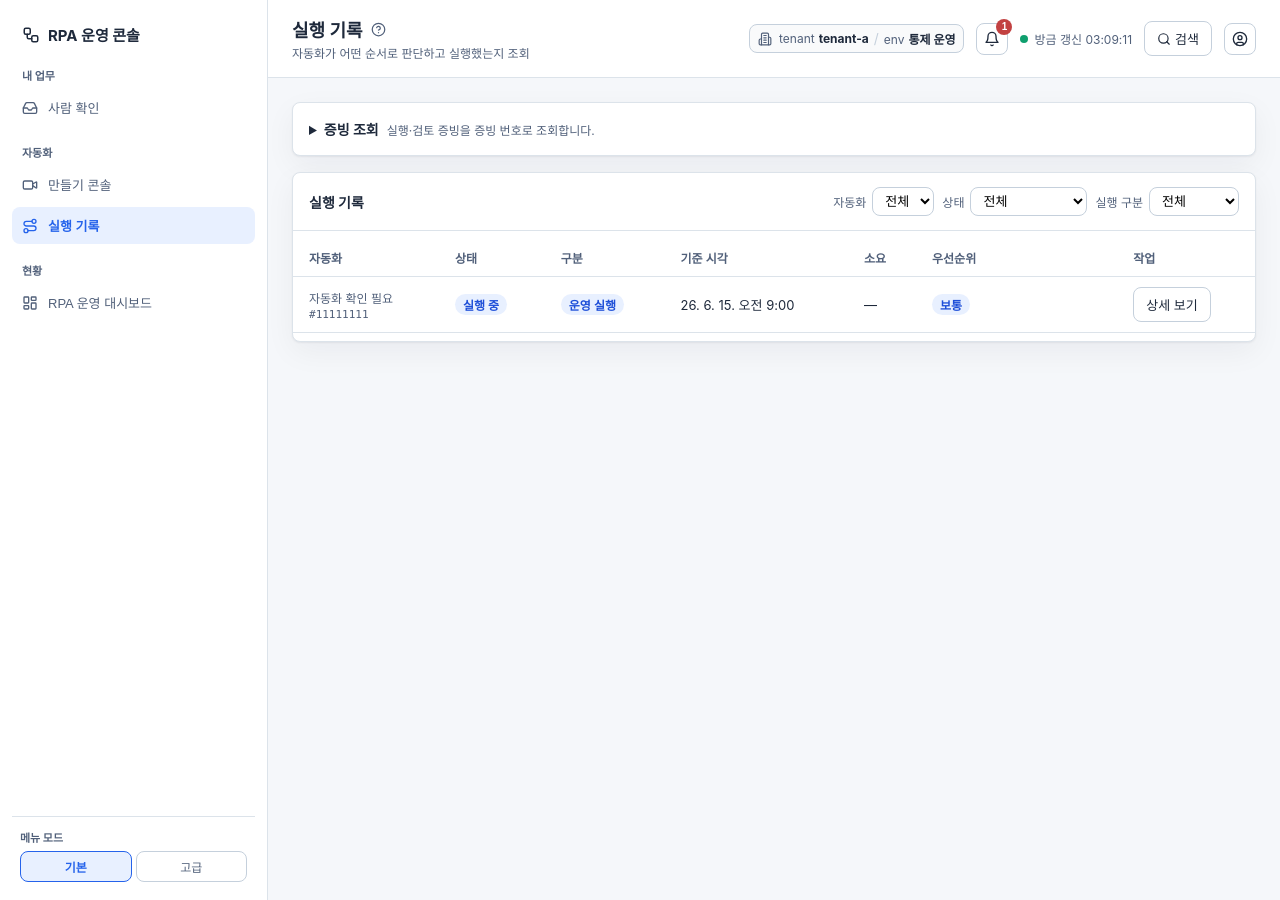
Test case: 실행 상세 상태 패널 — 터미널 상태(F3) › completed → 단일 상태 패널 green + '완료' 라벨
Click the button with aria-label "실행 추적 상세 보기" at (1172, 304), box x1=1133 y1=287 x2=1211 y2=322
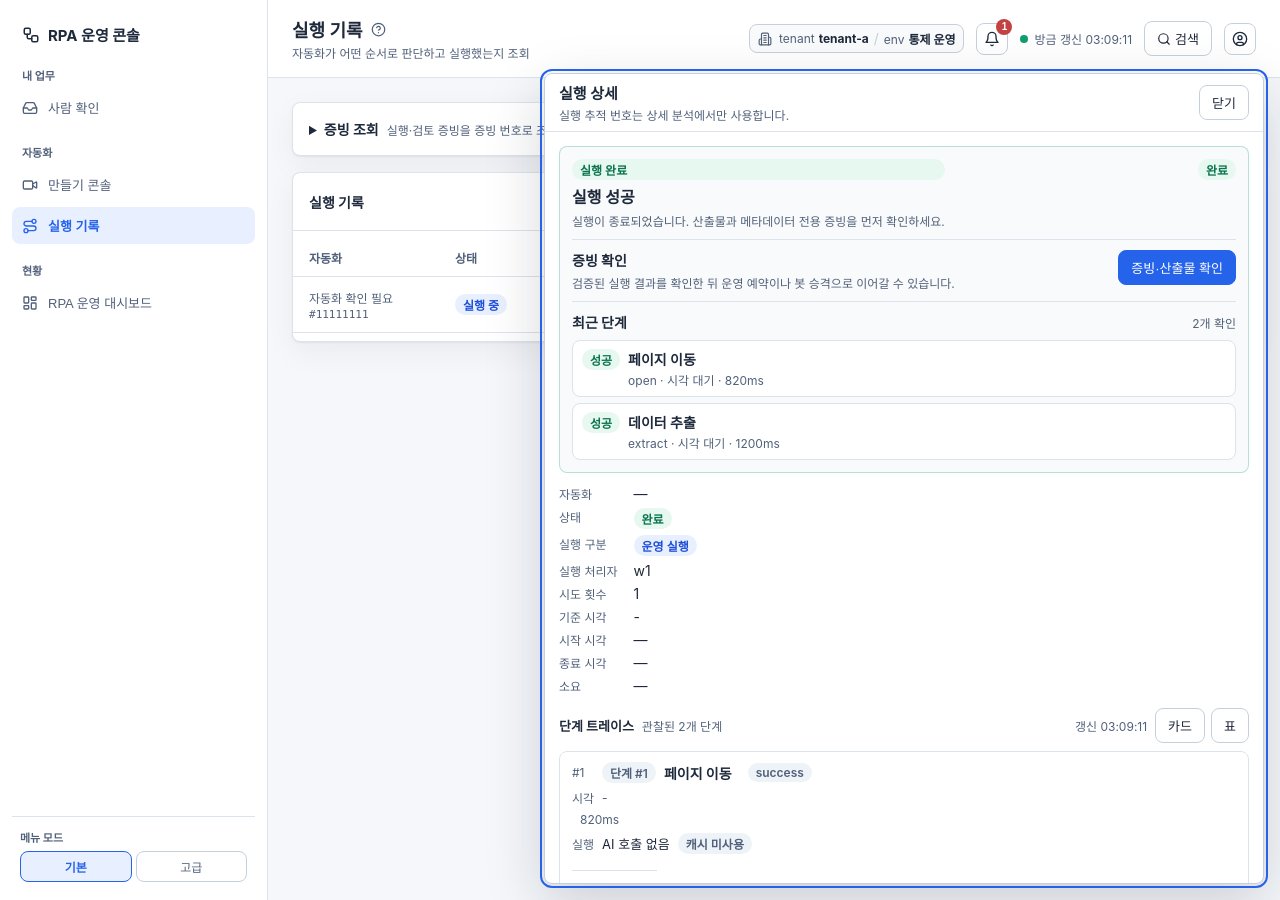
expect the element named "테스트 실행 상태" shows "완료": met, box x1=1206 y1=163 x2=1228 y2=178
